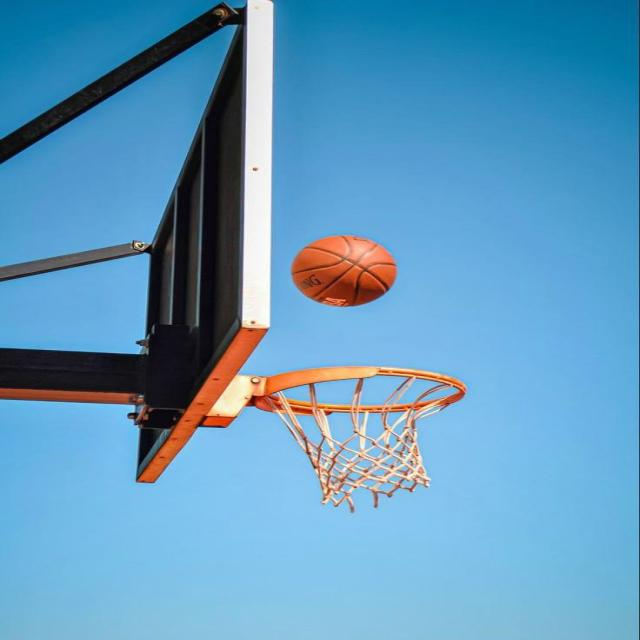hoop: (255, 359, 464, 514)
